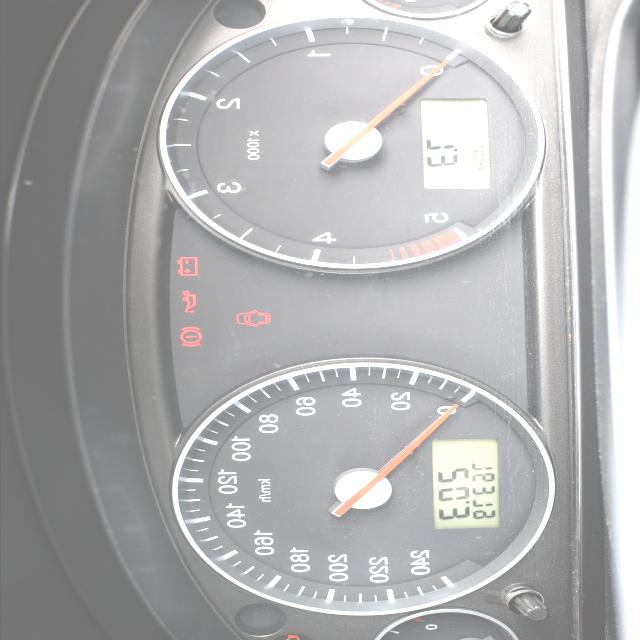kontrolka: (167, 252, 203, 282), (175, 288, 203, 316), (176, 324, 204, 348)
